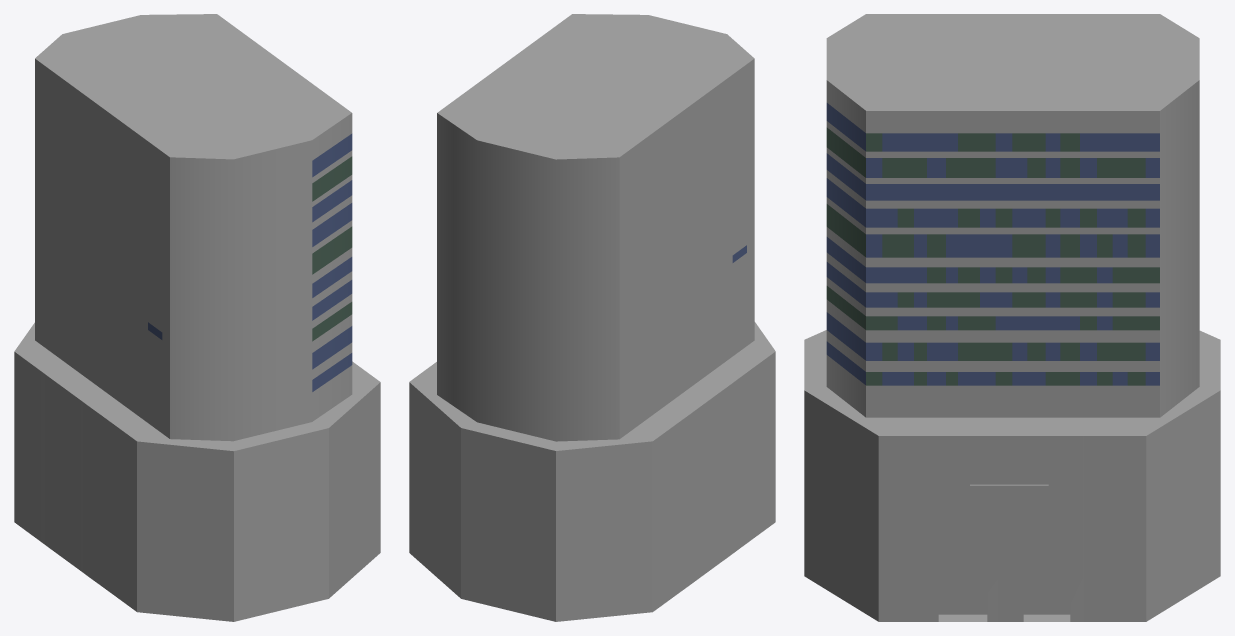
Rendered from BuildingH.fbx.
3 views of the same model, side by side, from view 1: azimuth 30°, elevation 25°; view 2: azimuth 150°, elevation 25°; view 3: azimuth 270°, elevation 25° (orthographic). The views are drawn at different scales.
Visible parts, largest first — view 1: BuildingH; view 2: BuildingH; view 3: BuildingH.
Boxes of the visible parts, x1,y1,x2,y2 form: BuildingH: (14,14,380,621); BuildingH: (409,14,775,621); BuildingH: (804,14,1220,621).
Size of the model in its own units: 18.33 by 32.24 by 24.69.
